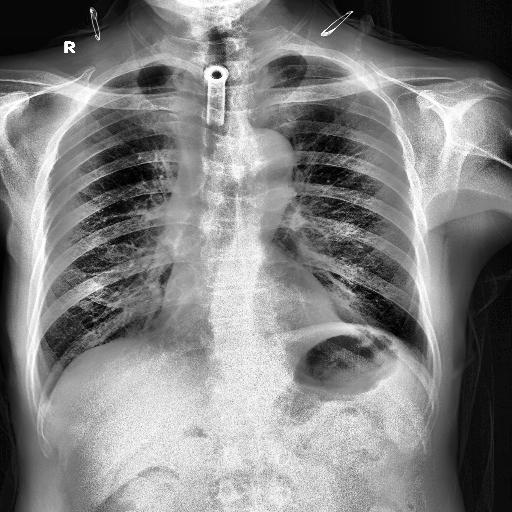0- Aortic enlargement: (236, 126, 296, 192), (241, 130, 295, 202), (234, 127, 294, 184)
